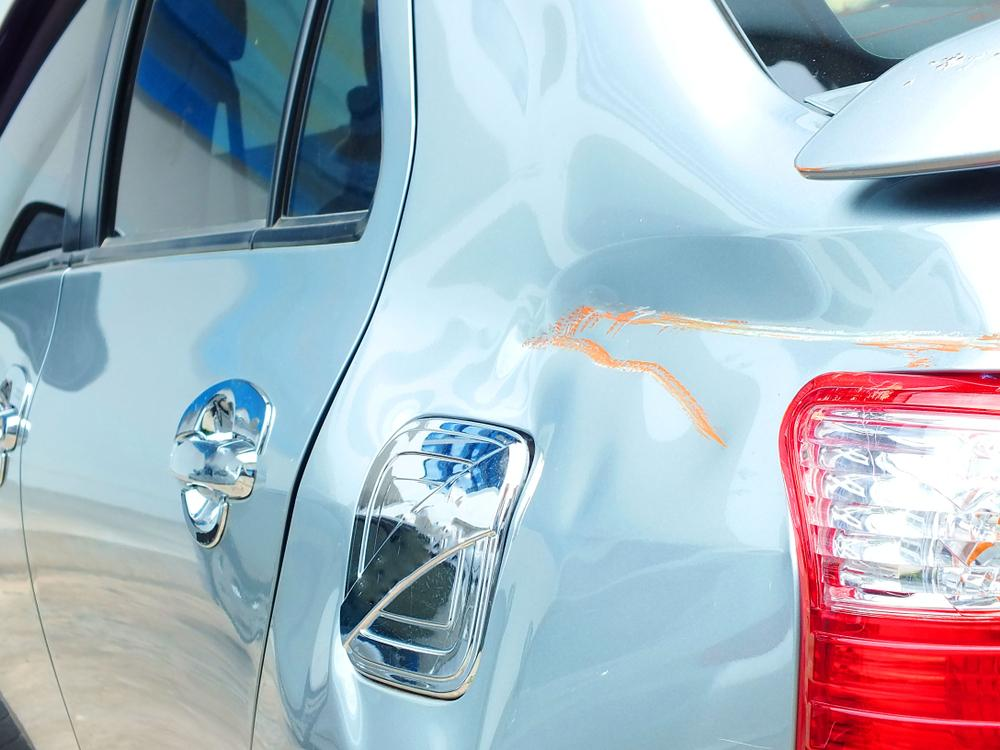dent: (383, 0, 979, 678)
